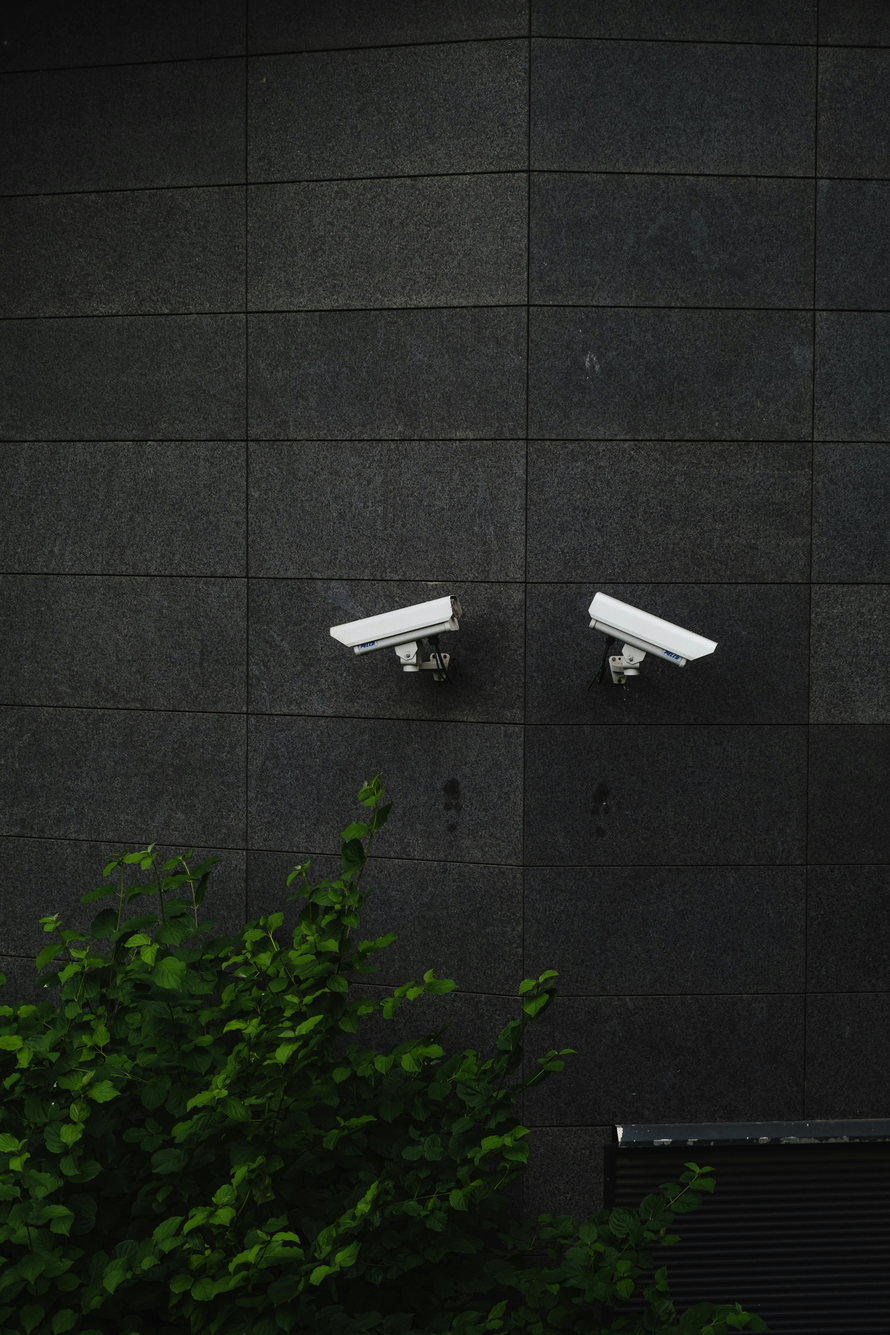camera: (543, 550, 736, 721), (287, 556, 490, 702)
